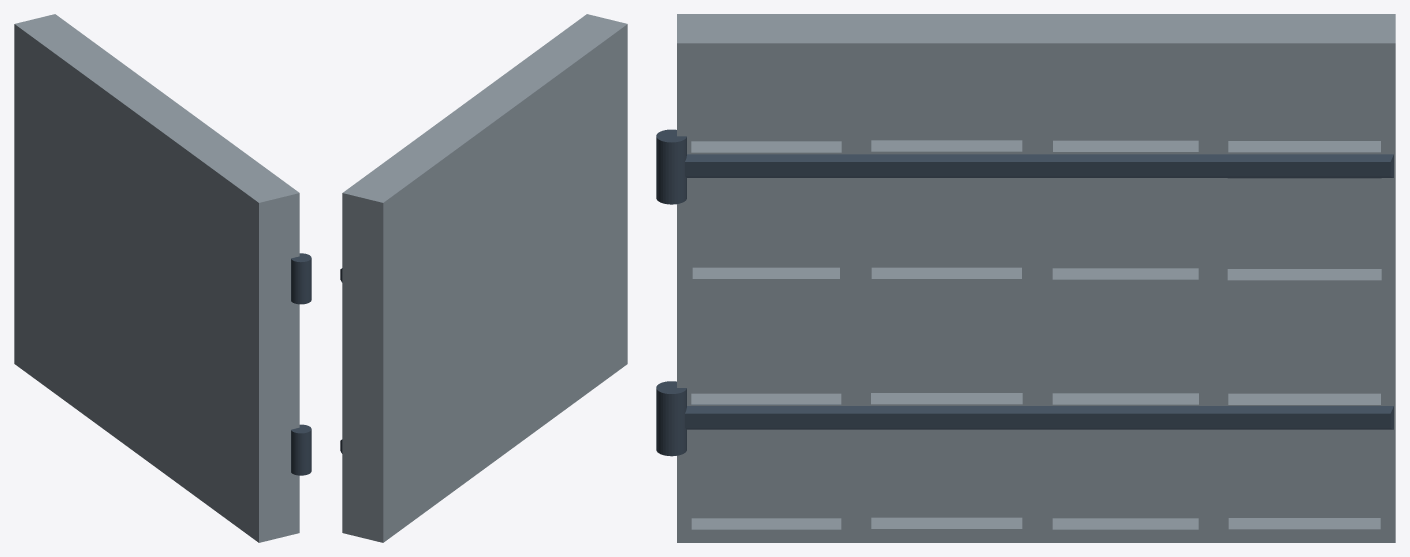
File: Brama.fbx
3 renders of one model, left to right at view 1: azimuth 30°, elevation 25°; view 2: azimuth 150°, elevation 25°; view 3: azimuth 270°, elevation 25°, orthographic. The views are drawn at different scales.
Parts seen in each view (by area): view 1: Cube.001, Cylinder, Cylinder.001; view 2: Cube.001; view 3: Cube.001, Cylinder.001, Cylinder.
Part boxes in pixels (left/top/right/bottom): Cube.001: left=14, top=14, right=299, bottom=542; Cylinder: left=291, top=424, right=311, bottom=475; Cylinder.001: left=291, top=253, right=311, bottom=304; Cube.001: left=342, top=14, right=627, bottom=542; Cube.001: left=677, top=14, right=1395, bottom=542; Cylinder.001: left=656, top=129, right=1393, bottom=204; Cylinder: left=656, top=381, right=1393, bottom=456.
Bounding box in the file's own units: 63.69 × 419 × 562.
